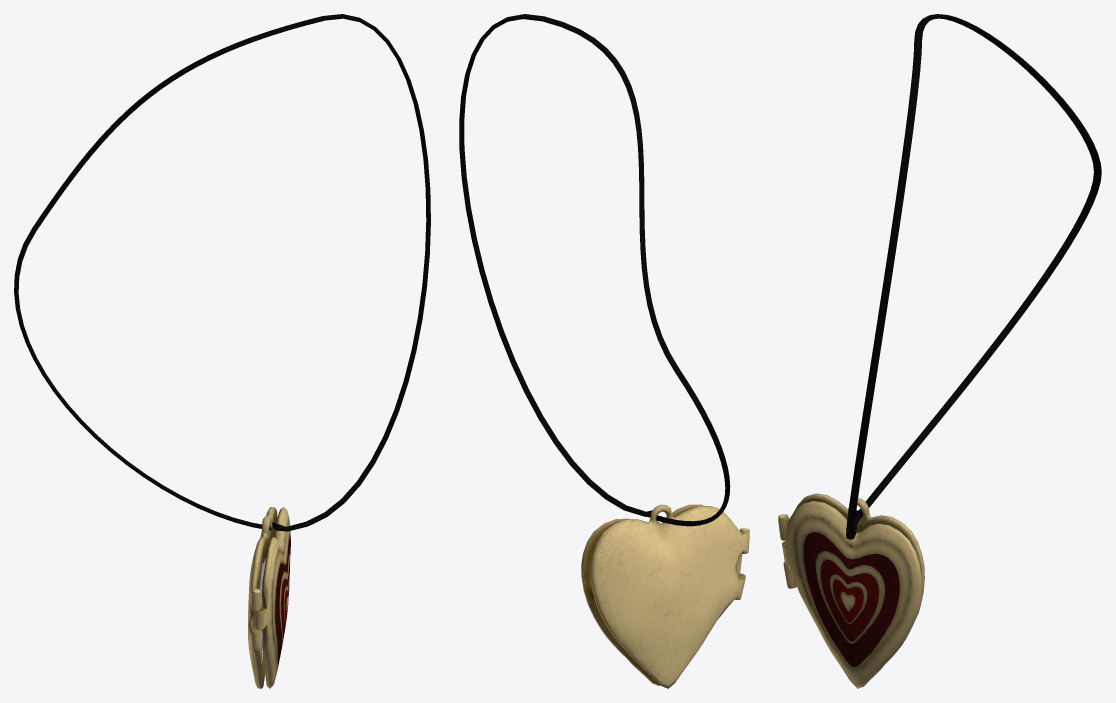
Rendered from necklace.glb.
The picture shows the model from 3 angles, left to right: view 1: azimuth 30°, elevation 25°; view 2: azimuth 150°, elevation 25°; view 3: azimuth 270°, elevation 25°; orthographic projection. The views are drawn at different scales.
Visible parts, largest first — view 1: rope, door, base; view 2: base, rope, door; view 3: door, rope, base.
Boxes of the visible parts, <box> form: rope: <box>14,14,430,531</box>; door: <box>255,507,290,688</box>; base: <box>248,507,277,688</box>; base: <box>590,504,749,688</box>; rope: <box>459,14,730,526</box>; door: <box>581,504,742,686</box>; door: <box>782,501,922,688</box>; rope: <box>846,14,1101,539</box>; base: <box>778,493,924,605</box>.
Size of the model in its own units: 0.2663 by 0.4925 by 0.2083.
Materials: 3 (2 with a texture image).
